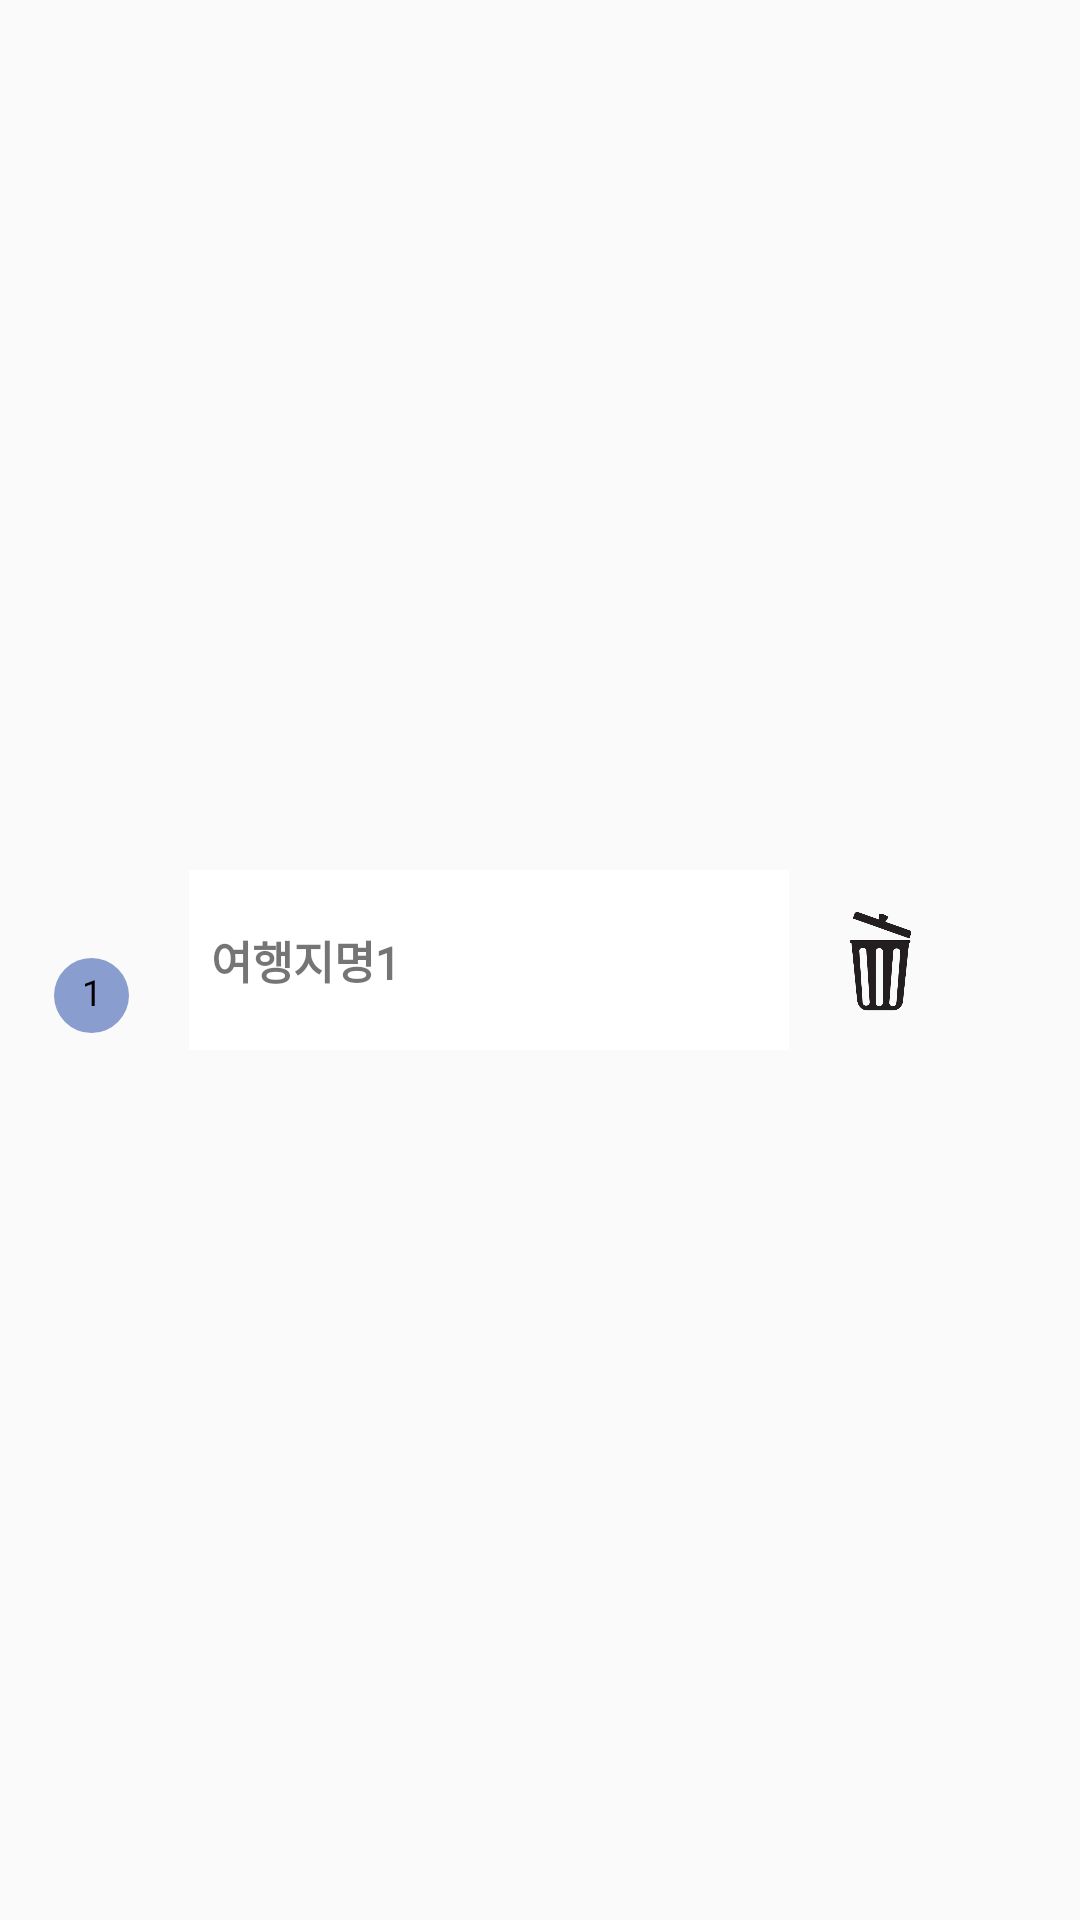

Icon click points for this 1080×1920 phone screenshot, format (x,y):
circle: (91,995)
delete: (880,961)
